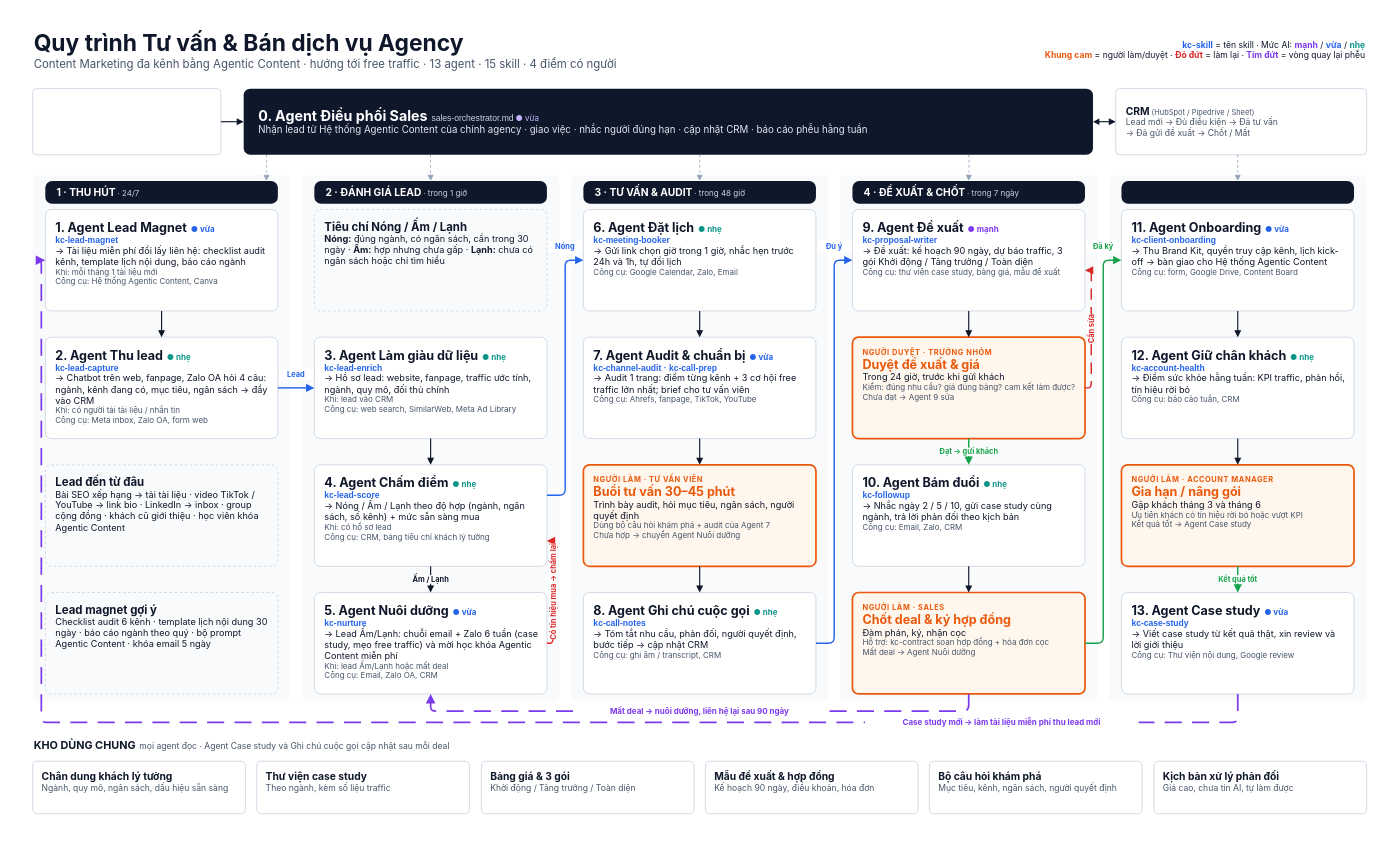
The diagram is 1399 pixels wide and 847 high, and some of its shapes have lost their labels. Each missing label, with the box of its shape:
5 · ONBOARDING & GIỮ CHÂN · suốt hợp đồng: (1121, 181, 1354, 203)
NGUỒN FREE TRAFFIC SEO blog · Fanpage · TikTok YouTube · LinkedIn · Cộng đồng: (32, 88, 221, 155)
